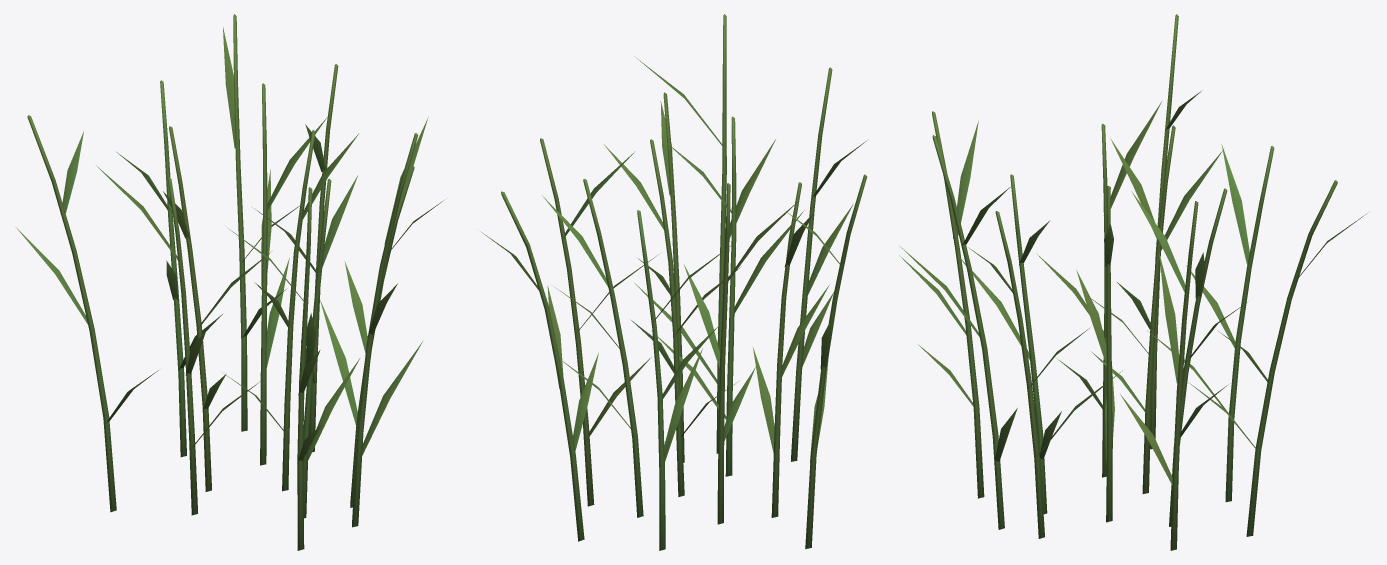
The model's file is crop_fiber_s1.glb.
3 views of the same model, side by side, from view 1: azimuth 30°, elevation 25°; view 2: azimuth 150°, elevation 25°; view 3: azimuth 270°, elevation 25° (orthographic).
Parts seen in each view (by area): view 1: Crop_Fiber_S1; view 2: Crop_Fiber_S1; view 3: Crop_Fiber_S1.
Part boxes in pixels (left/top/right/bottom): Crop_Fiber_S1: left=16, top=14, right=443, bottom=550; Crop_Fiber_S1: left=480, top=14, right=868, bottom=550; Crop_Fiber_S1: left=899, top=14, right=1367, bottom=550.
Size of the model in its own units: 0.2067 by 0.2535 by 0.2674.
